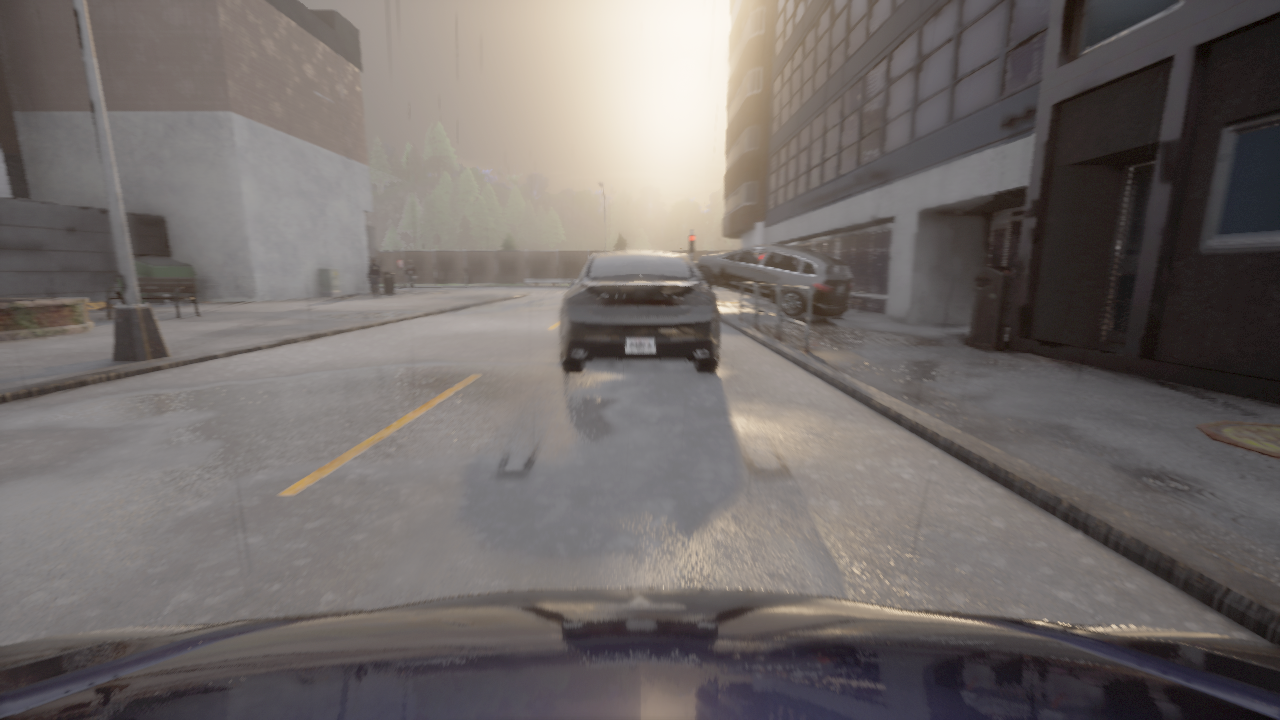cyclist: (0, 588, 1279, 719), (560, 249, 719, 373), (693, 245, 852, 316)
pedestrian: (368, 257, 380, 298), (405, 260, 417, 292)
